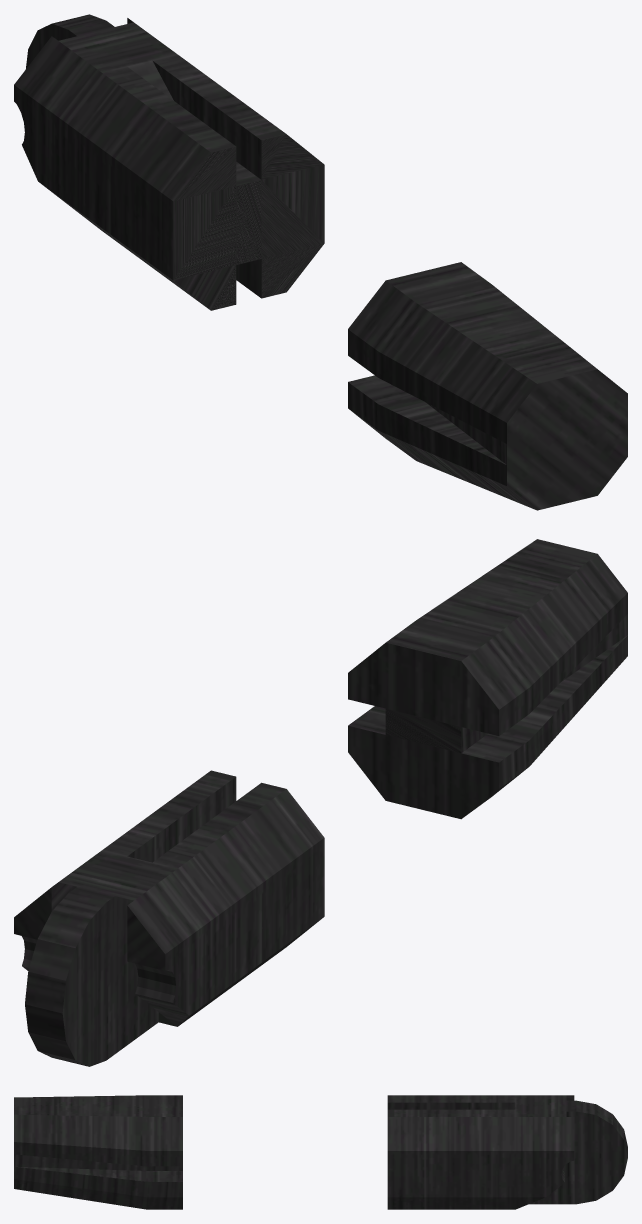
File: tibia.dae
The picture shows the model from 3 angles, top to bottom: view 1: azimuth 30°, elevation 25°; view 2: azimuth 150°, elevation 25°; view 3: azimuth 270°, elevation 25°; orthographic projection. The views are drawn at different scales.
Parts seen in each view (by area): view 1: Tibia; view 2: Tibia; view 3: Tibia.
Boxes of the visible parts, x1,y1,x2,y2 form: Tibia: (14,14,627,510); Tibia: (14,539,627,1066); Tibia: (14,1095,627,1209).
Bounding box in the file's own units: 0.2 × 1.2 × 0.2.
1 material, 1 textured.
